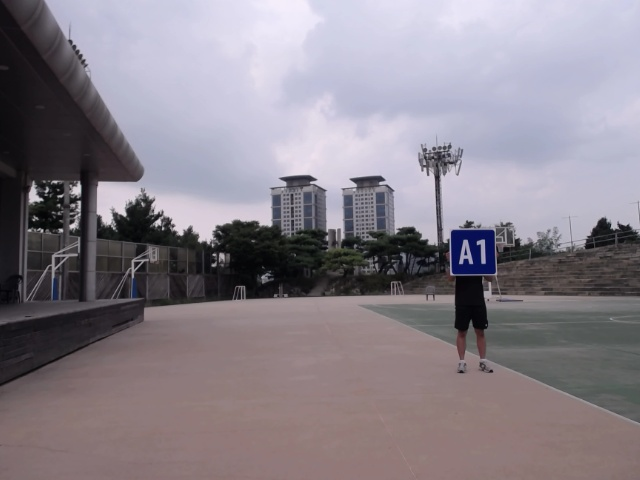delivery_a1: (450, 229, 497, 275)
